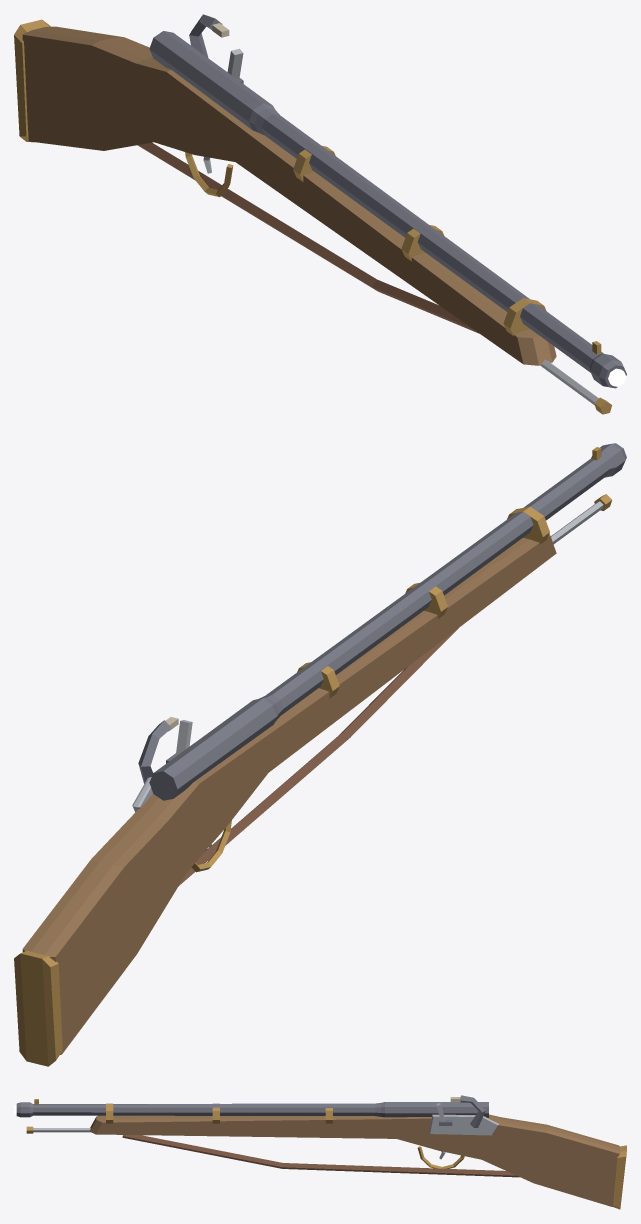
The model's file is musket.glb.
3 renders of one model, top to bottom at view 1: azimuth 30°, elevation 25°; view 2: azimuth 150°, elevation 25°; view 3: azimuth 270°, elevation 25°, orthographic. The views are drawn at different scales.
Parts seen in each view (by area): view 1: musket; view 2: musket; view 3: musket.
Boxes of the visible parts, bbox=[...] form: musket: bbox=[14, 14, 626, 414]; musket: bbox=[14, 443, 626, 1066]; musket: bbox=[14, 1095, 626, 1209].
Bounding box in the file's own units: 0.096 × 0.3919 × 1.84.
